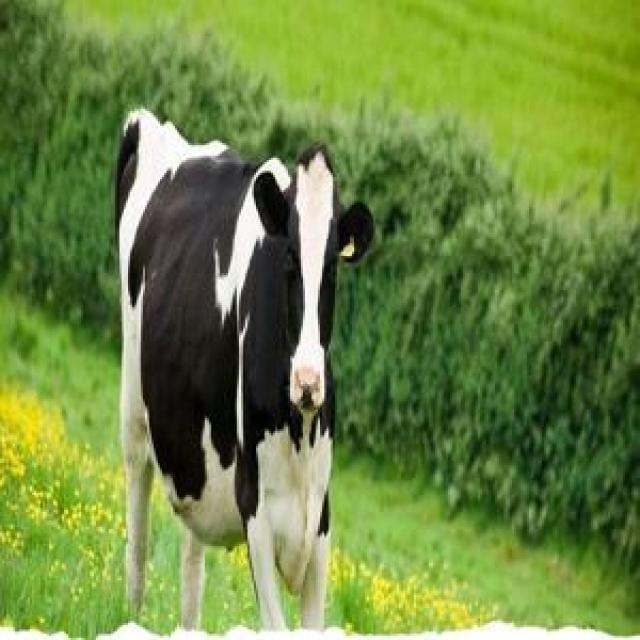cow: (116, 110, 372, 629)
